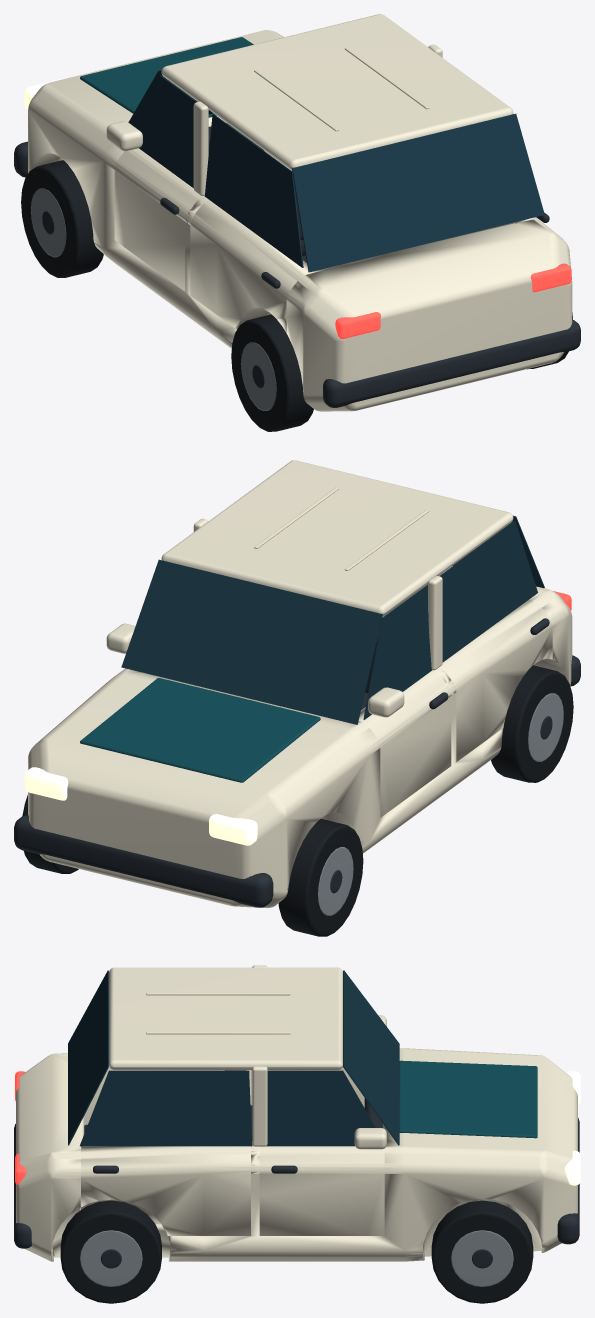
File: car_crate_a.glb
3 views of the same model, one above another, from view 1: azimuth 30°, elevation 25°; view 2: azimuth 150°, elevation 25°; view 3: azimuth 270°, elevation 25° (orthographic). The views are drawn at different scales.
Visible parts, largest first — view 1: Body, Roof, RearGlass, DoorPanelRearLeft, DoorWindowRearLeft, DoorPanelFrontLeft, RearBumper, TireFrontLeft, TireRearLeft, DoorWindowFrontLeft, HoodInset, HubRearLeft (+5 smaller); view 2: Body, Roof, Windshield, HoodInset, DoorPanelRearLeft, DoorWindowRearLeft, DoorPanelFrontLeft, FrontBumper, TireFrontLeft, TireRearLeft, DoorWindowFrontLeft, HubFrontLeft (+7 smaller); view 3: Body, Roof, DoorPanelRearRight, DoorWindowRearRight, DoorPanelFrontRight, HoodInset, DoorWindowFrontRight, Windshield, TireFrontRight, TireRearRight, RearGlass, HubFrontRight (+9 smaller).
Boxes of the visible parts, x1,y1,x2,y2 form: Body: (28,30,572,411); Roof: (161,14,513,170); RearGlass: (292,113,544,272); DoorPanelRearLeft: (190,200,323,332); DoorWindowRearLeft: (204,114,303,267); DoorPanelFrontLeft: (114,148,203,291); RearBumper: (323,319,580,407); TireFrontLeft: (21,160,103,277); TireRearLeft: (231,314,313,431); DoorWindowFrontLeft: (135,75,196,187); HoodInset: (80,37,253,117); HubRearLeft: (241,342,276,410); Body: (28,566,572,907); Roof: (161,460,513,616); Windshield: (121,559,382,724); HoodInset: (80,678,320,782); DoorPanelRearLeft: (439,599,552,761); DoorWindowRearLeft: (439,521,537,662); DoorPanelFrontLeft: (358,670,451,817); FrontBumper: (14,815,273,907); TireFrontLeft: (278,819,363,936); TireRearLeft: (491,665,573,782); DoorWindowFrontLeft: (363,584,432,719); HubFrontLeft: (318,847,353,915); Body: (16,1048,577,1261); Roof: (109,967,342,1070); DoorPanelRearRight: (81,1146,250,1235); DoorWindowRearRight: (80,1070,252,1146); DoorPanelFrontRight: (259,1146,384,1235); HoodInset: (399,1060,537,1138); DoorWindowFrontRight: (266,1070,375,1146); Windshield: (343,970,399,1145); TireFrontRight: (431,1200,533,1303); TireRearRight: (60,1200,161,1303); RearGlass: (68,970,108,1145); HubFrontRight: (451,1230,513,1286).
Size of the model in its own units: 1.91 by 1.65 by 3.68.
